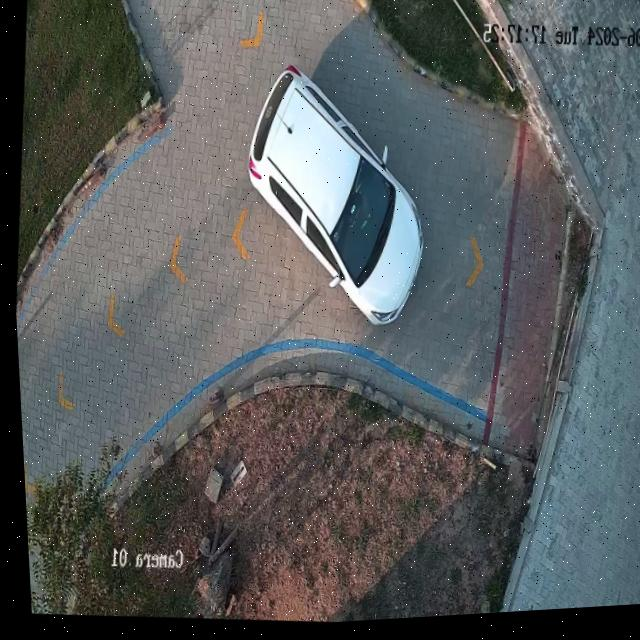car: (246, 69, 420, 329)
